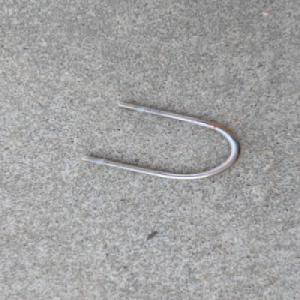ClampPart: (76, 99, 243, 181)
